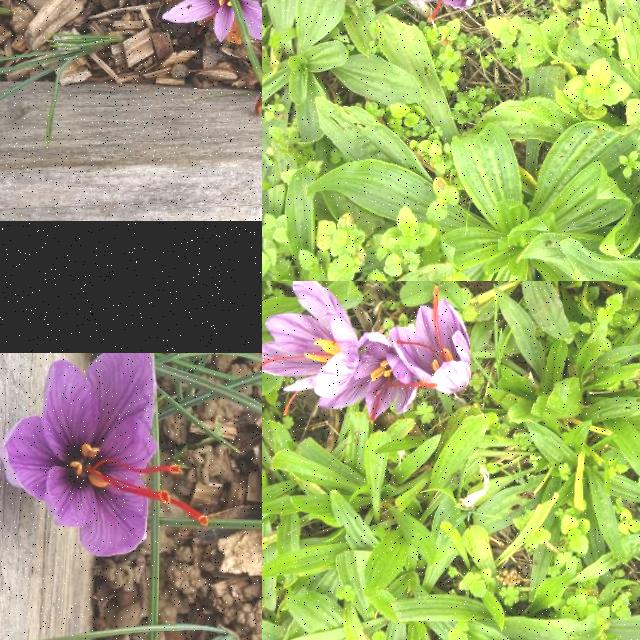flower: (0, 353, 212, 558), (162, 0, 262, 43), (375, 0, 481, 23)
overlap: (262, 281, 471, 422)
